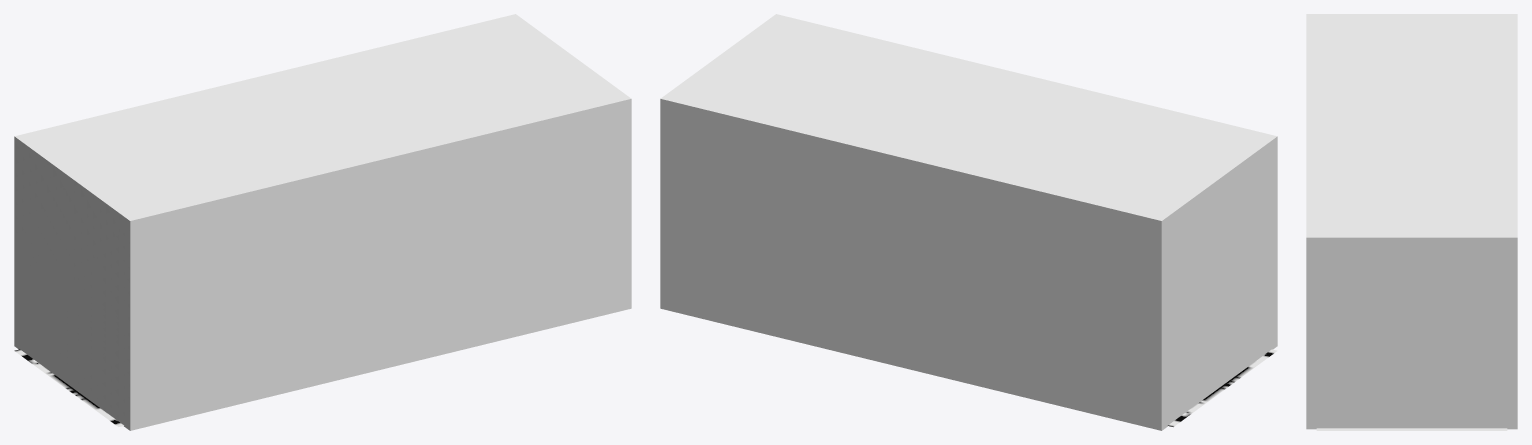
The model's file is Gimmick_tree001.fbx.
The picture shows the model from 3 angles, left to right: view 1: azimuth 30°, elevation 25°; view 2: azimuth 150°, elevation 25°; view 3: azimuth 270°, elevation 25°; orthographic projection. The views are drawn at different scales.
Parts seen in each view (by area): view 1: RaderMask, gimmick_shadow; view 2: RaderMask, gimmick_shadow; view 3: RaderMask, gimmick_shadow.
Boxes of the visible parts, x1=… form: RaderMask: x1=14, y1=14, x2=631, y2=430; gimmick_shadow: x1=14, y1=349, x2=123, y2=426; RaderMask: x1=660, y1=14, x2=1277, y2=430; gimmick_shadow: x1=1168, y1=349, x2=1277, y2=426; RaderMask: x1=1306, y1=14, x2=1517, y2=429; gimmick_shadow: x1=1316, y1=428, x2=1507, y2=430.
Bounding box in the file's own units: 2.56 × 1.04 × 1.
